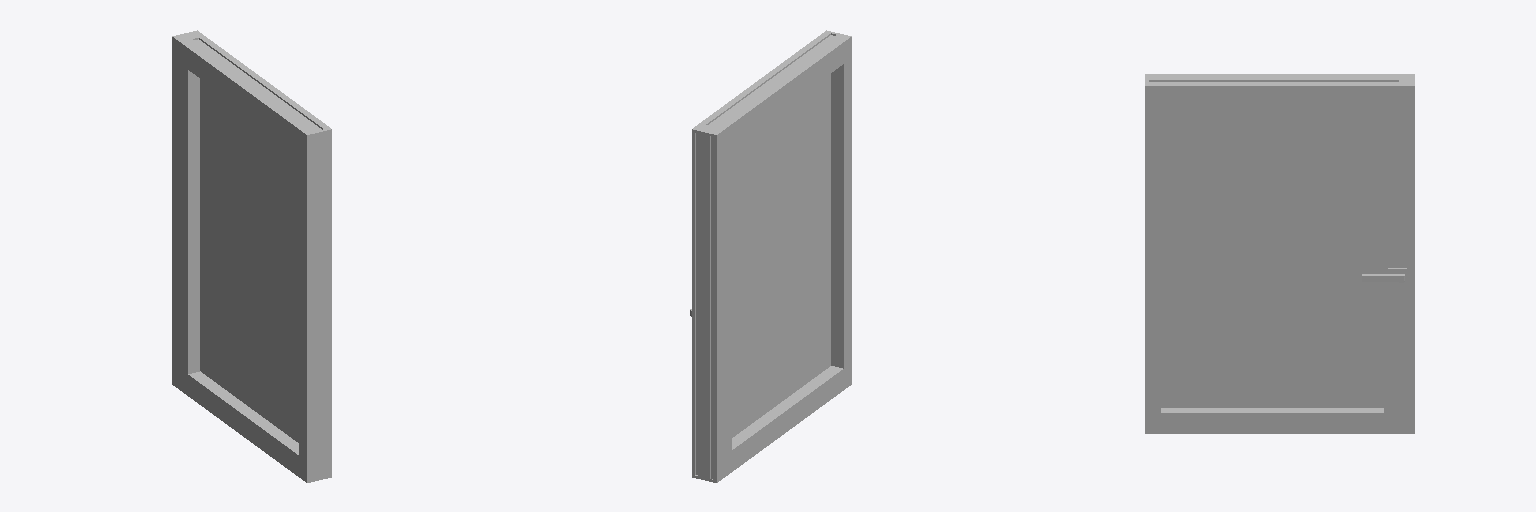
The model's file is window.obj.
3 views of the same model, side by side, from view 1: azimuth 30°, elevation 25°; view 2: azimuth 150°, elevation 25°; view 3: azimuth 270°, elevation 25° (orthographic).
Parts seen in each view (by area): view 1: Cube_004; view 2: Cube_004; view 3: Cube_004.
Boxes of the visible parts, x1=… form: Cube_004: x1=172, y1=30, x2=331, y2=482; Cube_004: x1=690, y1=30, x2=851, y2=482; Cube_004: x1=1145, y1=74, x2=1414, y2=433.
Bounding box in the file's own units: 0.5464 × 5.6 × 3.94.